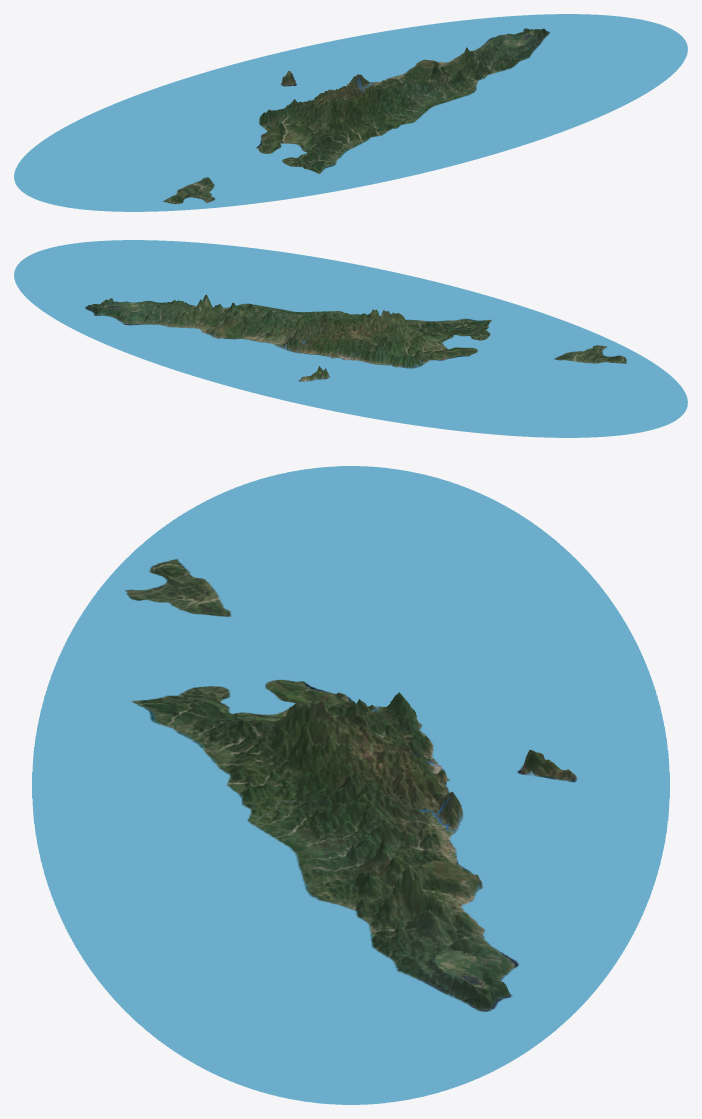
Rendered from TLS-previa-terrain.glb.
The picture shows the model from 3 angles, top to bottom: view 1: azimuth 30°, elevation 25°; view 2: azimuth 150°, elevation 25°; view 3: azimuth 270°, elevation 25°; orthographic projection. The views are drawn at different scales.
Visible parts, largest first — view 1: Timor-Leste; view 2: Timor-Leste; view 3: Timor-Leste.
Part boxes in pixels (x1=…): Timor-Leste: x1=14, y1=14, x2=687, y2=211; Timor-Leste: x1=14, y1=240, x2=687, y2=437; Timor-Leste: x1=32, y1=466, x2=669, y2=1104.
Bounding box in the file's own units: 2.48 × 0.1087 × 1.05.
Materials: 1 (1 with a texture image).
